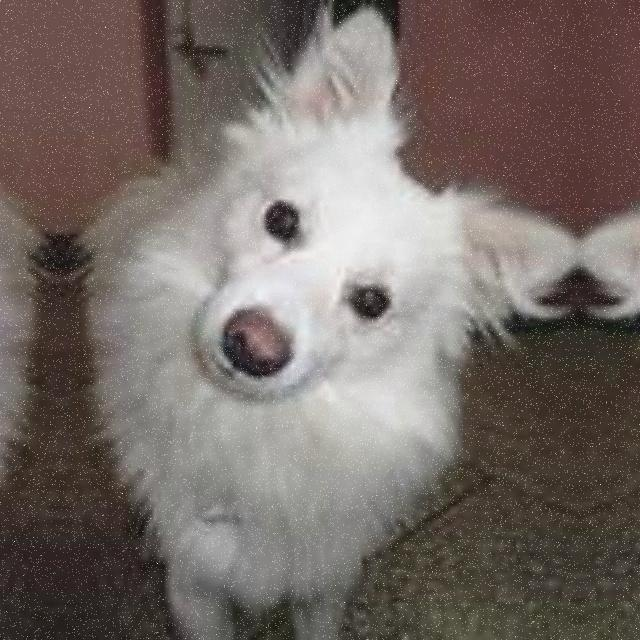dog: (78, 1, 578, 614), (580, 0, 640, 613), (0, 0, 42, 613)
